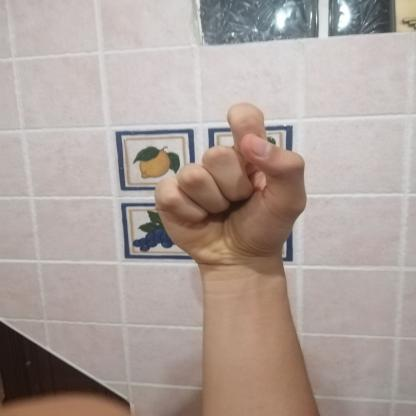FAA: (135, 92, 322, 278)
